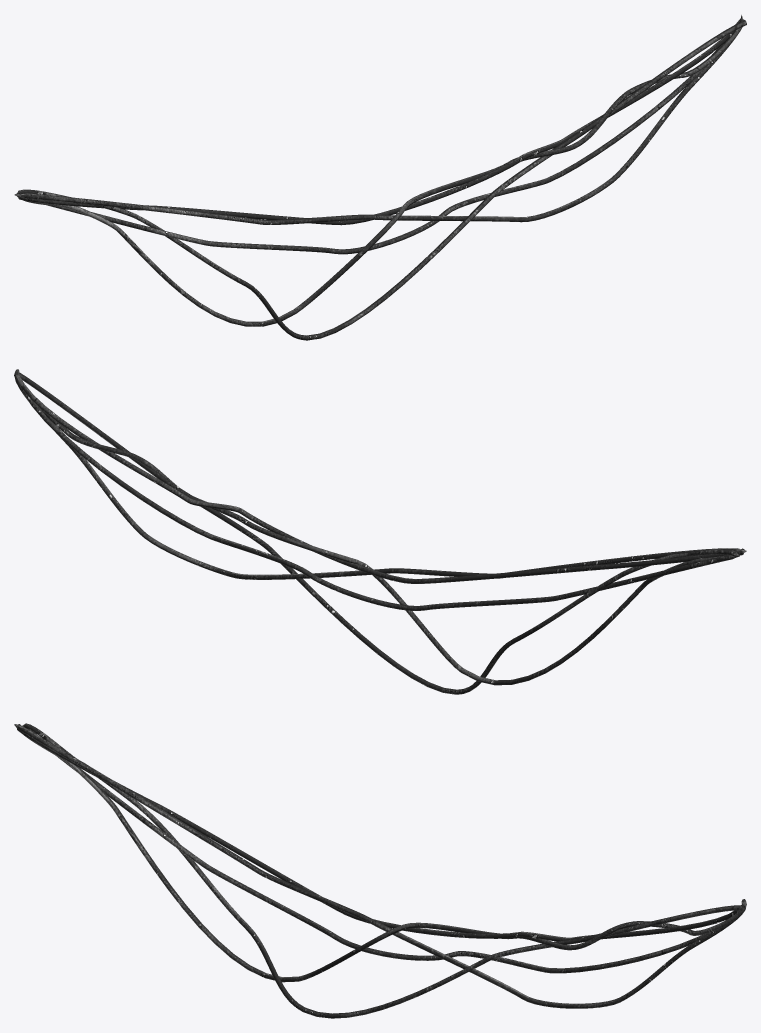
Rendered from Cable2.fbx.
3 renders of one model, top to bottom at view 1: azimuth 30°, elevation 25°; view 2: azimuth 150°, elevation 25°; view 3: azimuth 330°, elevation 25°, orthographic.
Visible parts, largest first — view 1: Wire.006; view 2: Wire.006; view 3: Wire.006.
Boxes of the visible parts, <box> form: Wire.006: <box>14,15,746,340</box>; Wire.006: <box>14,369,746,694</box>; Wire.006: <box>14,723,746,1018</box>.
Bounding box in the file's own units: 4594 × 1318 × 128.
1 material, 1 textured.
